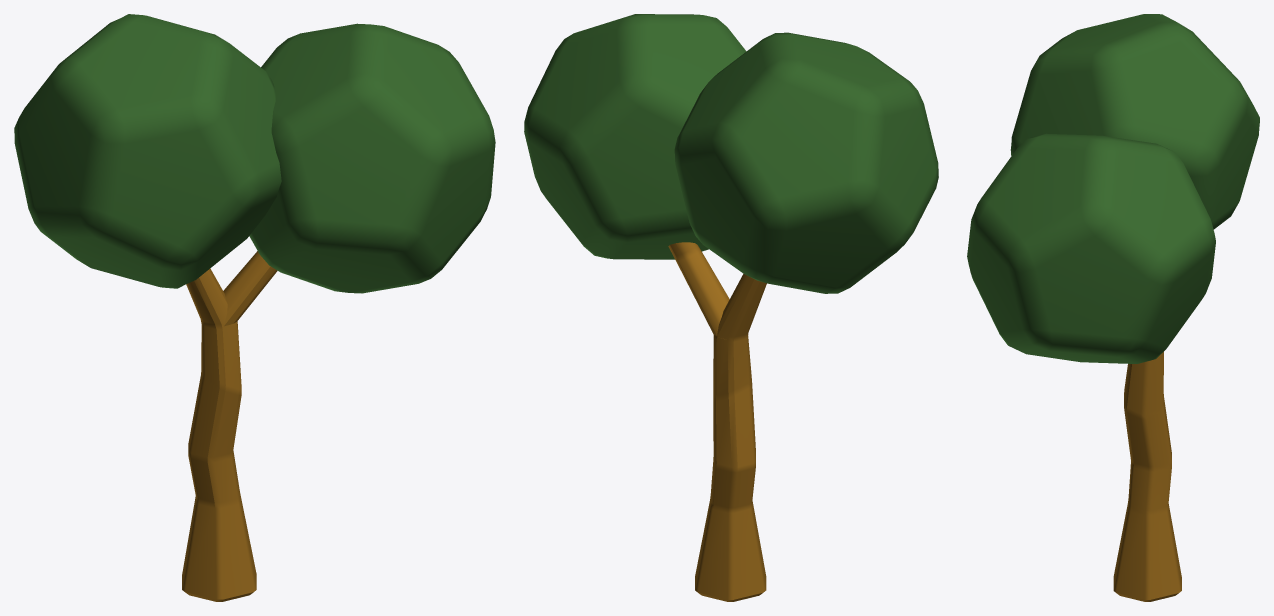
File: Tree_01.glb
3 renders of one model, left to right at view 1: azimuth 30°, elevation 25°; view 2: azimuth 150°, elevation 25°; view 3: azimuth 270°, elevation 25°, orthographic. The views are drawn at different scales.
Visible parts, largest first — view 1: Tree_V1; view 2: Tree_V1; view 3: Tree_V1.
Part boxes in pixels (box(x1,y1,x2,y2)): Tree_V1: box(14, 14, 495, 601); Tree_V1: box(524, 14, 938, 601); Tree_V1: box(967, 14, 1259, 601).
Size of the model in its own units: 7.4 by 10.17 by 5.1.
